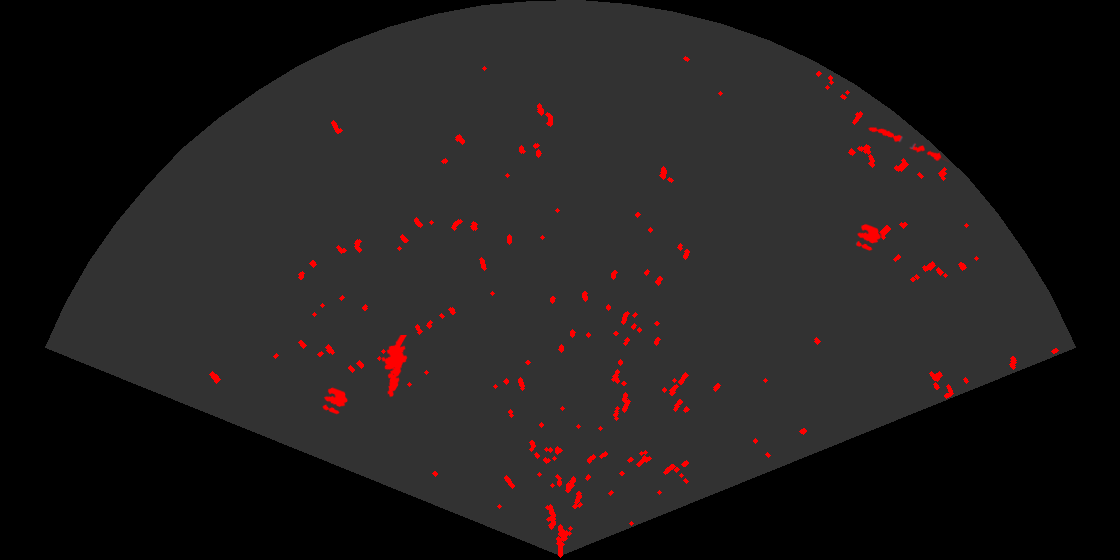ball: (321, 386, 349, 416), (855, 222, 882, 252)
chain: (866, 125, 949, 164)
frogman: (380, 335, 409, 399)
